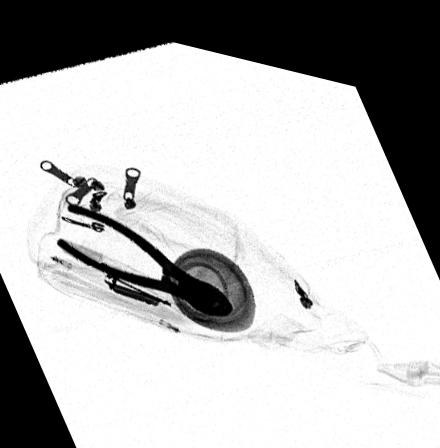Pliers: (53, 198, 229, 304)
